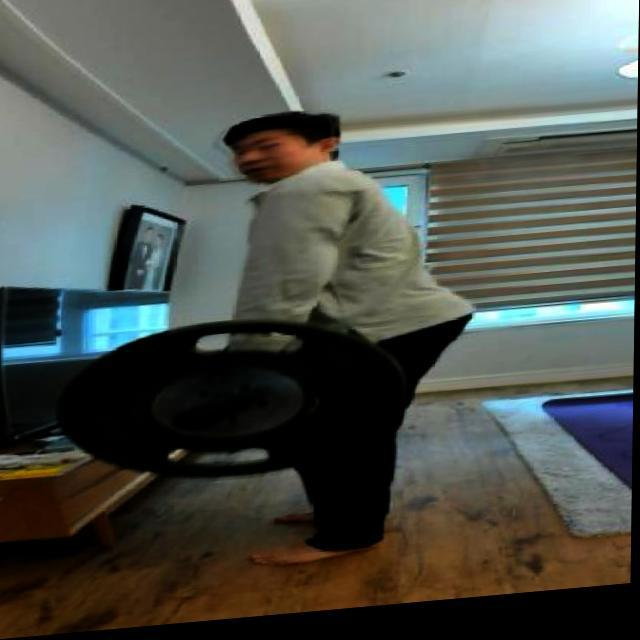barbell: (53, 305, 415, 505)
